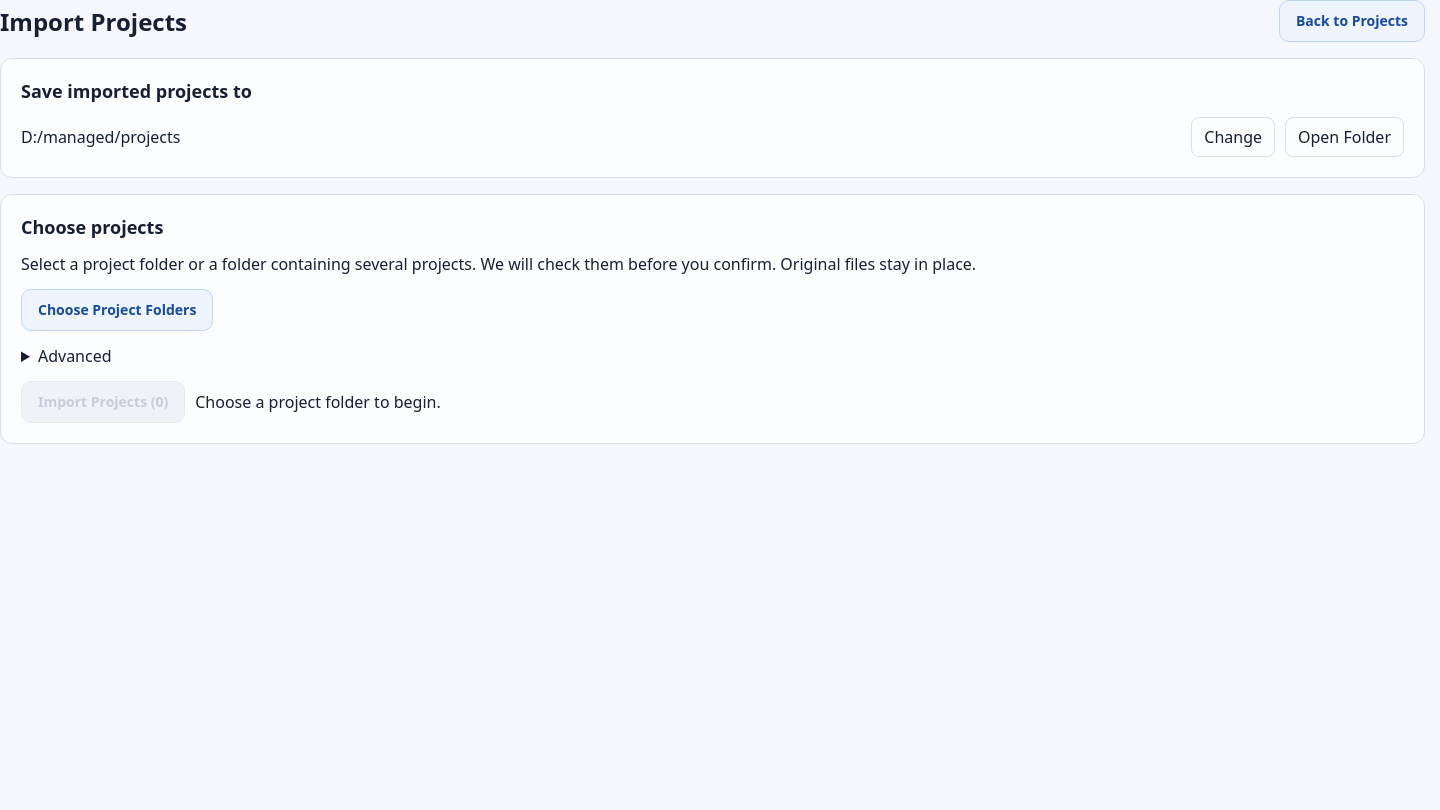
Test: requires a fresh backend conflict review before selecting a saved project for retention
The image size is (1440, 810).
Click the button "Choose Project Folders".
click(117, 310)  # box [21, 289, 213, 331]
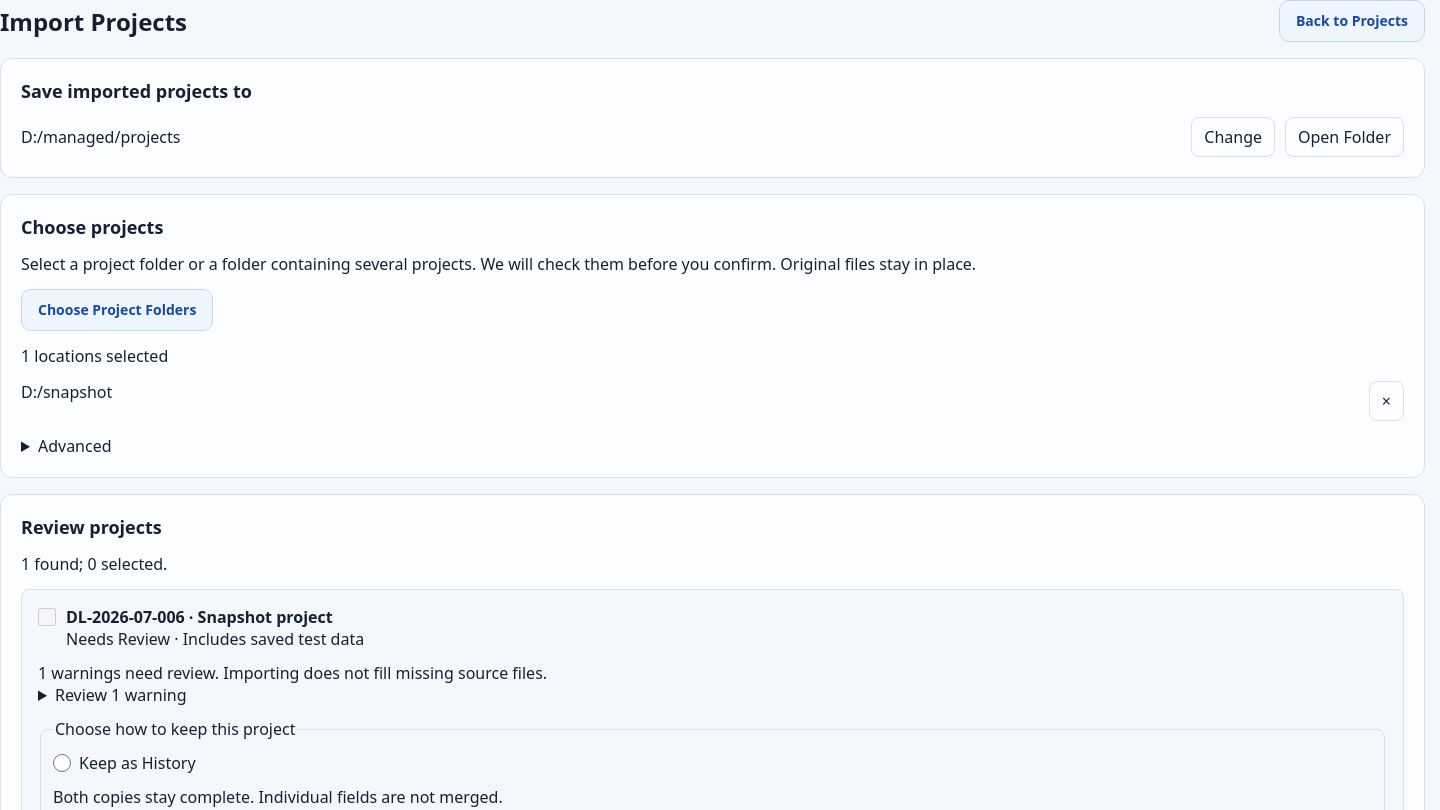
Click the radio button labelled "Keep as History".
click(62, 763)  # box [53, 754, 71, 772]
(page scrolled)
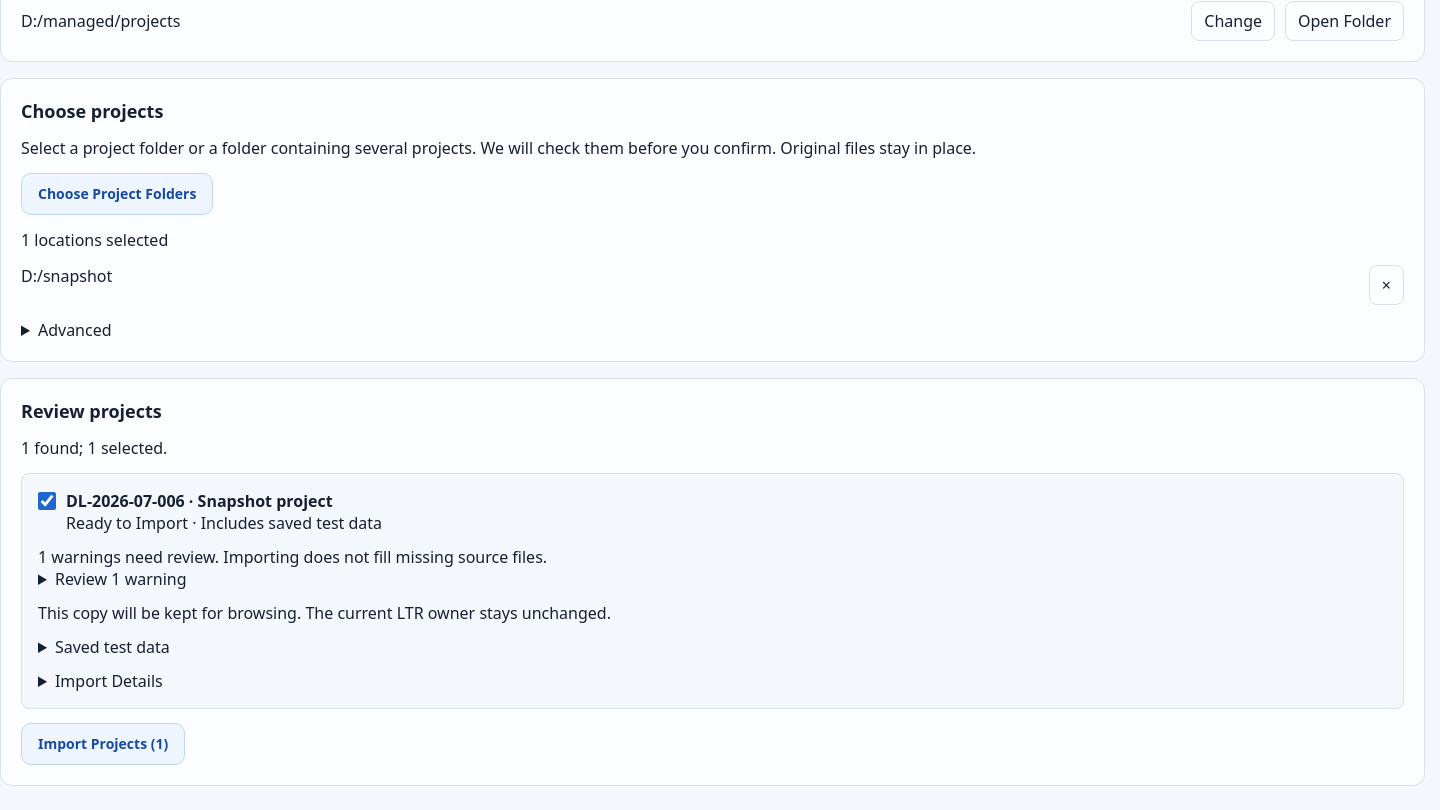
Click the button "Import Projects (1)".
click(103, 744)  # box [21, 723, 185, 765]
(page scrolled)
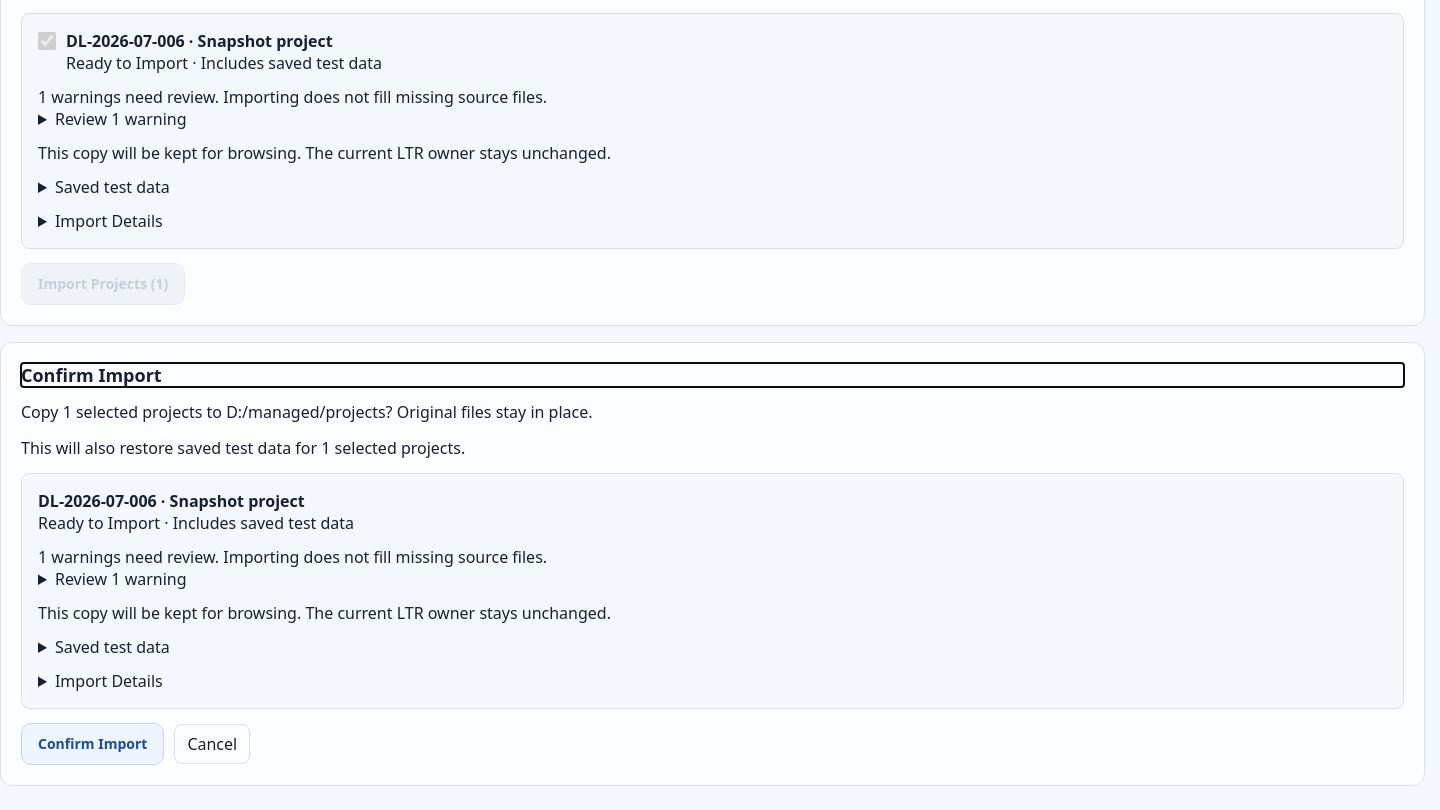
Expected: the dialog "Confirm Import" shows "current LTR owner stays unchanged", [38, 602, 611, 624]
Click the button "Confirm Import".
click(93, 744)  # box [21, 723, 164, 765]
(page scrolled)
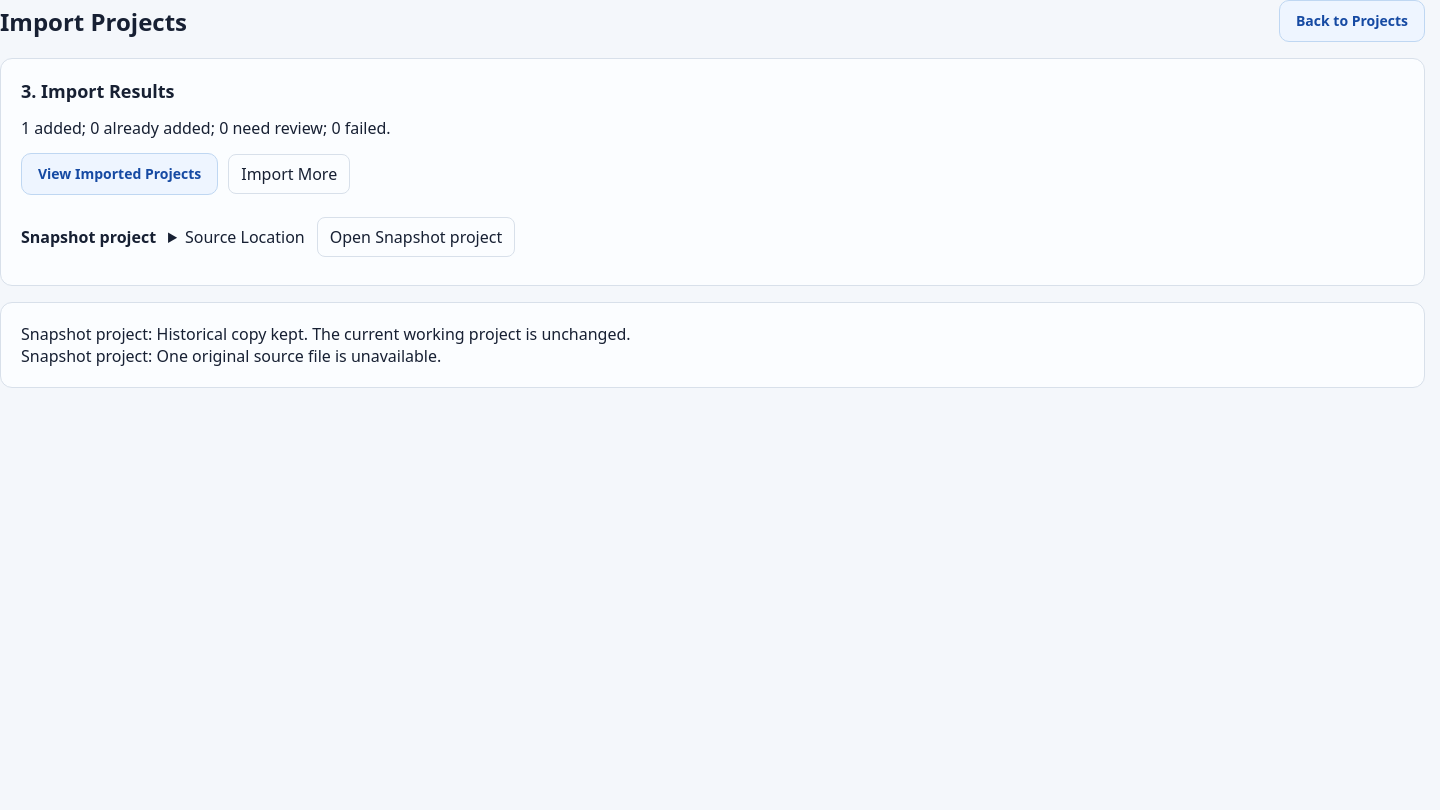
Now the button "Open Snapshot project" is shown, box [317, 217, 515, 257]
